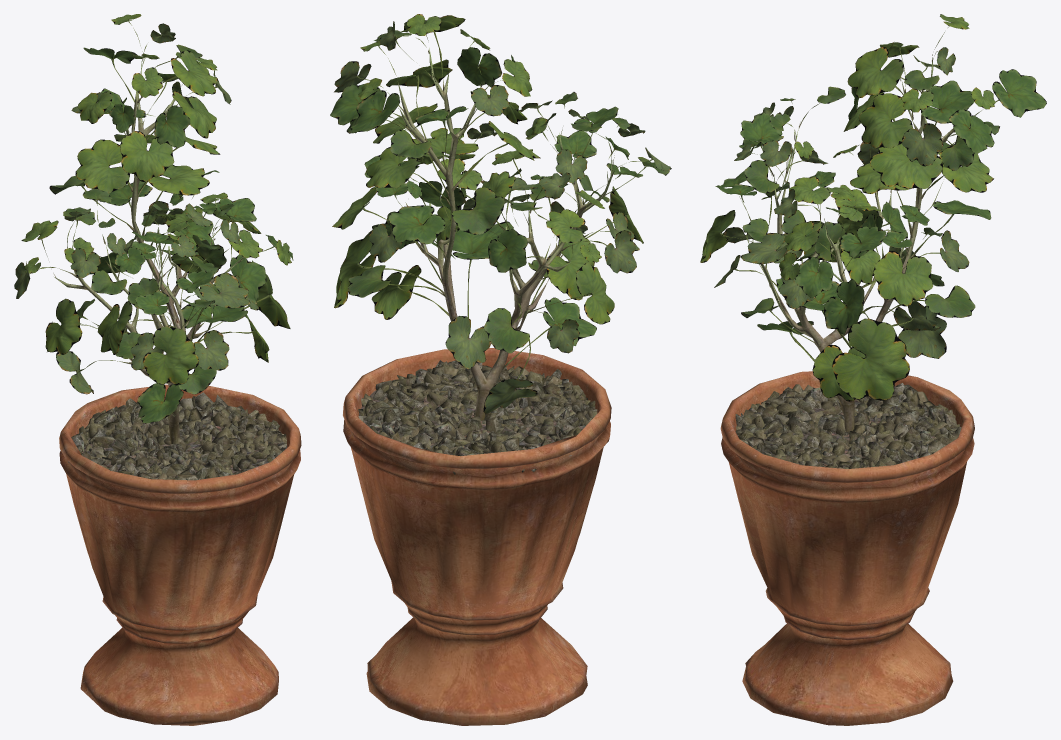
Rendered from potted_plant_01.glb.
The picture shows the model from 3 angles, left to right: view 1: azimuth 30°, elevation 25°; view 2: azimuth 150°, elevation 25°; view 3: azimuth 270°, elevation 25°; orthographic projection. The views are drawn at different scales.
Visible parts, largest first — view 1: potted_plant_01_pot, potted_plant_01_leaves, potted_plant_01_pebbles, potted_plant_01_stem; view 2: potted_plant_01_pot, potted_plant_01_leaves, potted_plant_01_pebbles, potted_plant_01_stem; view 3: potted_plant_01_pot, potted_plant_01_leaves, potted_plant_01_pebbles, potted_plant_01_stem.
Part boxes in pixels (x1,y1,x2,y2): potted_plant_01_pot: [59, 384, 301, 725]; potted_plant_01_leaves: [14, 14, 293, 423]; potted_plant_01_pebbles: [68, 392, 286, 480]; potted_plant_01_stem: [54, 58, 244, 444]; potted_plant_01_pot: [343, 348, 611, 725]; potted_plant_01_leaves: [330, 14, 671, 414]; potted_plant_01_pebbles: [358, 360, 597, 474]; potted_plant_01_stem: [397, 48, 612, 420]; potted_plant_01_pot: [720, 371, 974, 725]; potted_plant_01_leaves: [700, 14, 1046, 401]; potted_plant_01_pebbles: [735, 383, 961, 468]; potted_plant_01_stem: [752, 57, 954, 433].
Size of the model in its own units: 0.5866 by 1.34 by 0.6336.
Materials: 2 (2 with a texture image).
